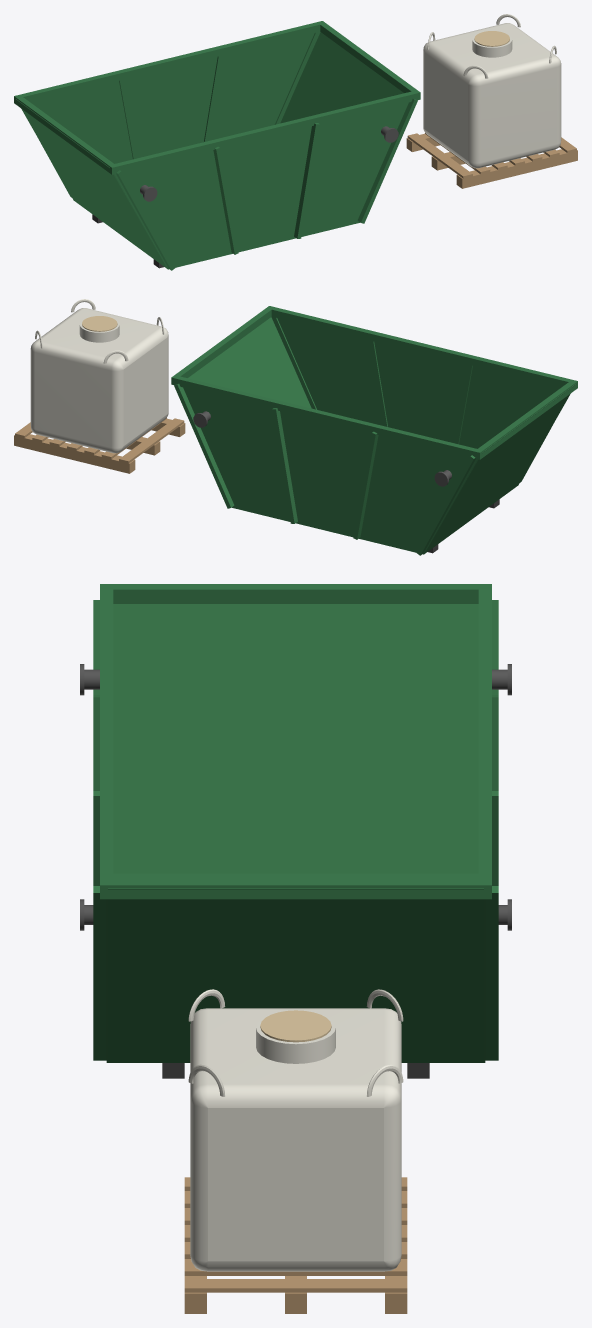
Rendered from skip_bin_and_bulk_bag.glb.
The picture shows the model from 3 angles, top to bottom: view 1: azimuth 30°, elevation 25°; view 2: azimuth 150°, elevation 25°; view 3: azimuth 270°, elevation 25°; orthographic projection. The views are drawn at different scales.
Visible parts, largest first — view 1: skip_bin, bulk_bag; view 2: skip_bin, bulk_bag; view 3: skip_bin, bulk_bag.
Boxes of the visible parts, bbox=[...] form: skip_bin: bbox=[14, 21, 420, 270]; bulk_bag: bbox=[406, 14, 577, 188]; skip_bin: bbox=[171, 306, 577, 555]; bulk_bag: bbox=[14, 299, 185, 473]; skip_bin: bbox=[80, 584, 511, 1078]; bulk_bag: bbox=[184, 989, 407, 1313].
Bounding box in the file's own units: 5.05 × 1.26 × 1.94.
6 materials, 6 textured.
